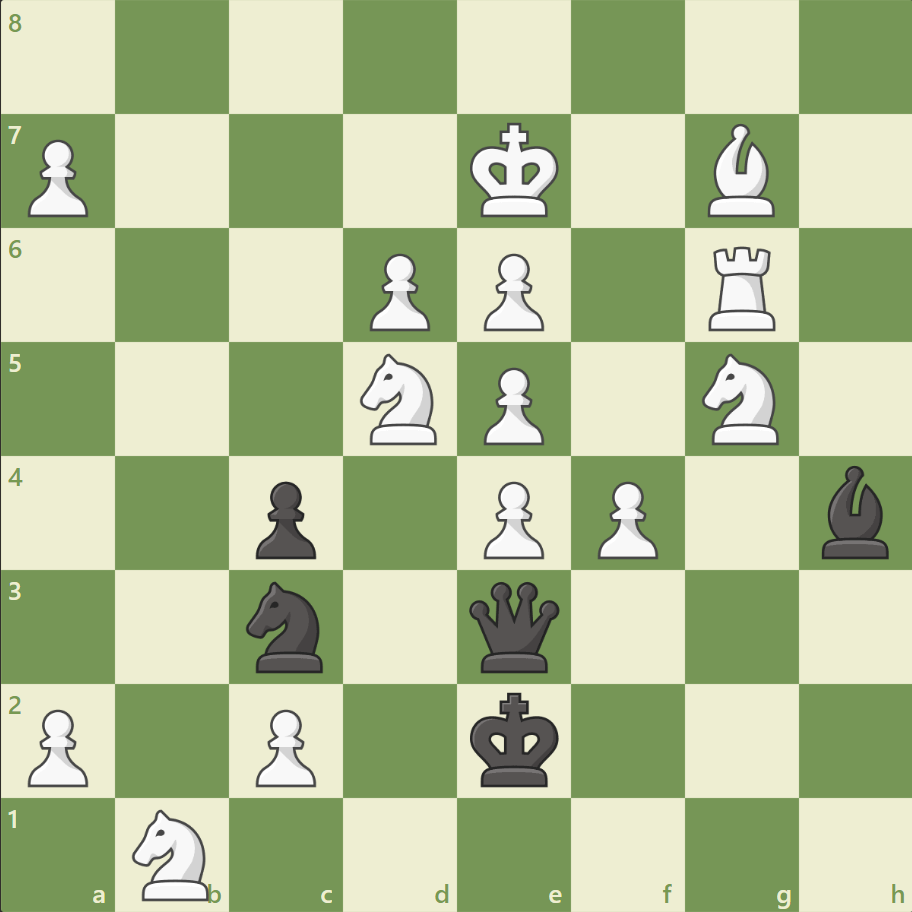B: (698, 120, 782, 222)
K: (465, 117, 565, 225)
N: (351, 348, 449, 450), (124, 802, 222, 904), (692, 348, 789, 450)
P: (20, 132, 95, 223), (474, 246, 549, 337), (474, 359, 549, 450), (474, 473, 549, 564), (20, 700, 95, 791), (247, 700, 322, 791), (361, 246, 435, 337), (588, 473, 662, 564)
R: (700, 239, 783, 336)
b: (812, 460, 896, 563)
k: (465, 685, 565, 793)
n: (238, 575, 335, 677)
p: (247, 473, 322, 564)
q: (464, 576, 563, 676)
